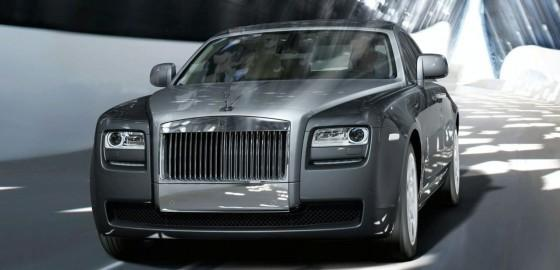Sedan: (88, 17, 461, 260)
